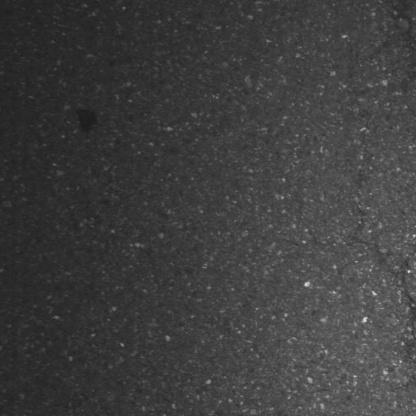Cracks: (384, 0, 416, 145), (397, 204, 416, 379)
